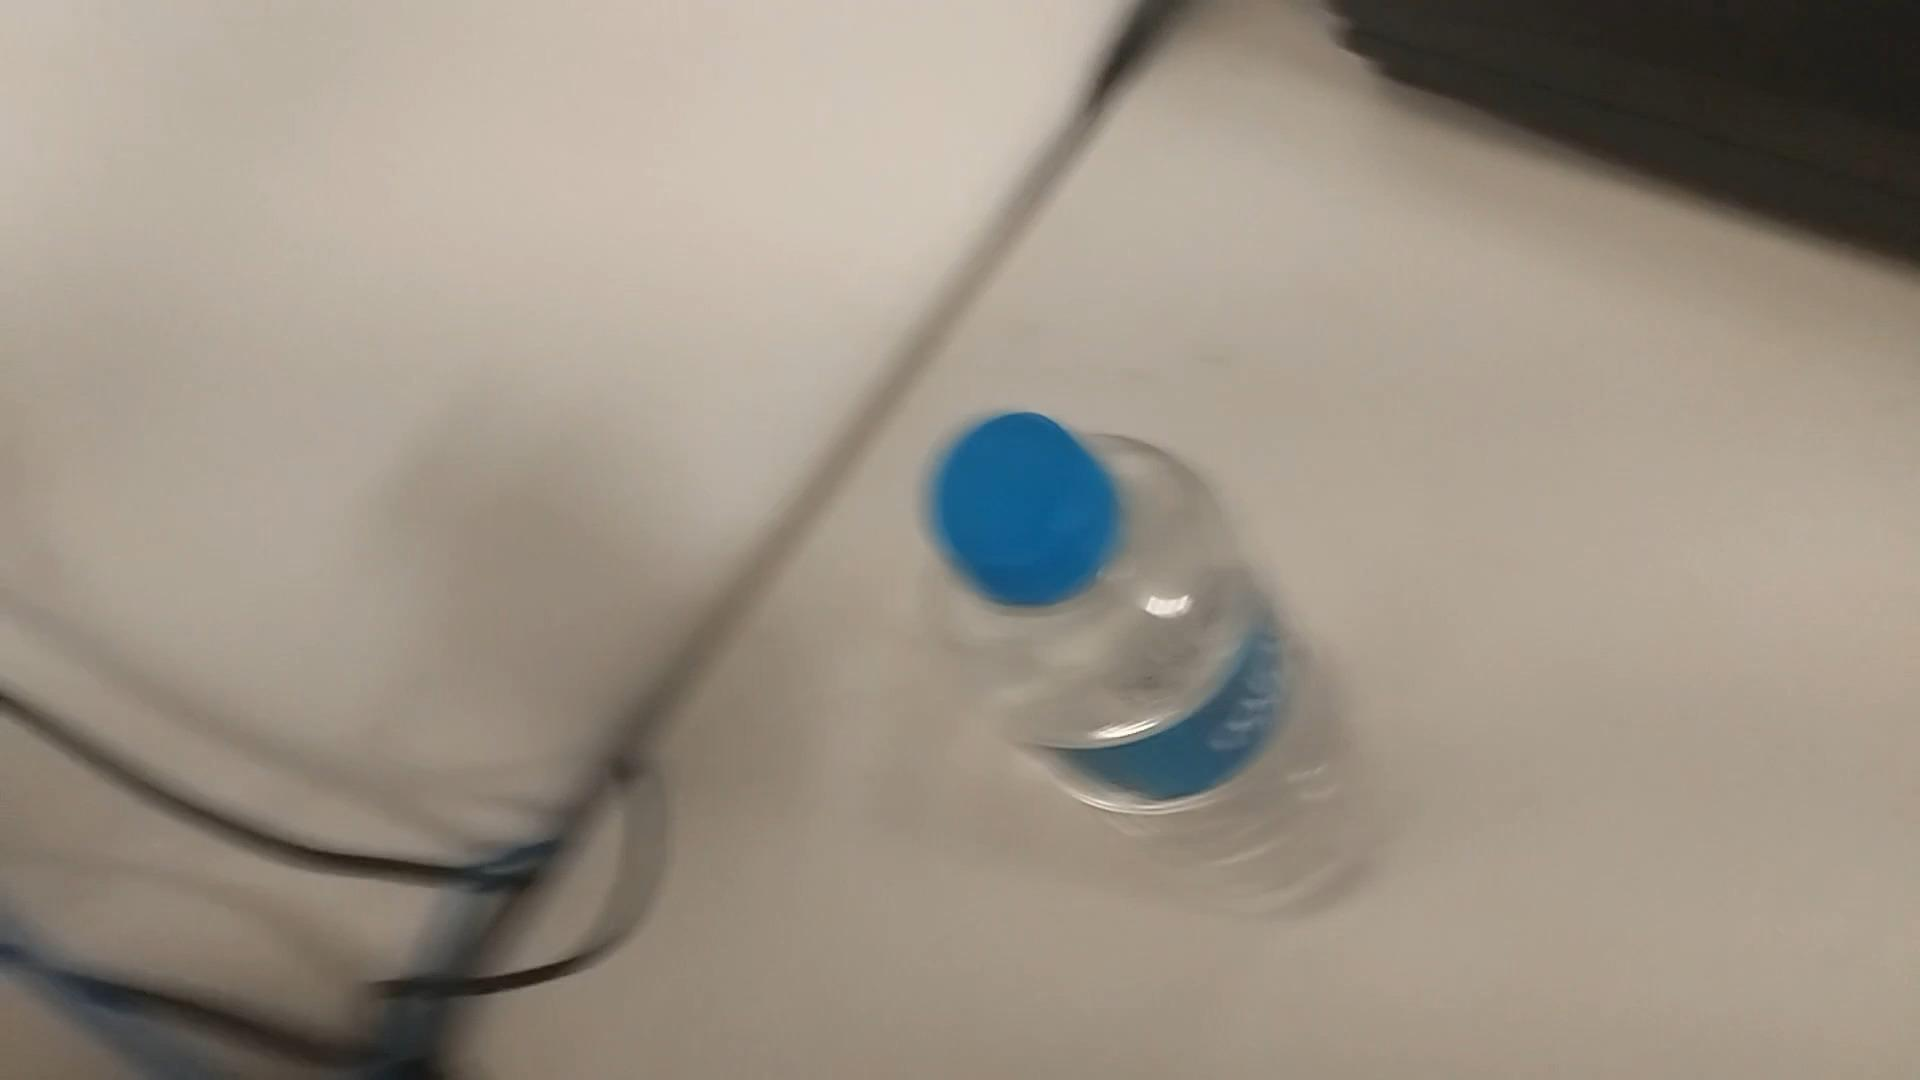agua: (914, 405, 1353, 905)
